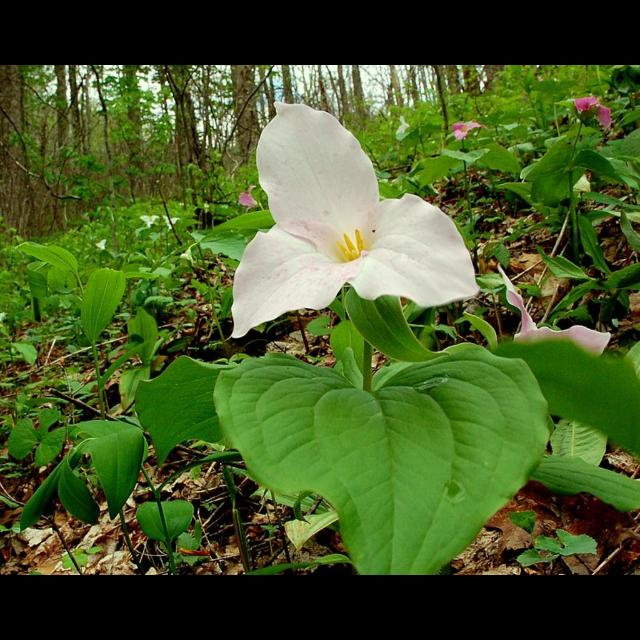Flower: (240, 106, 474, 336)
